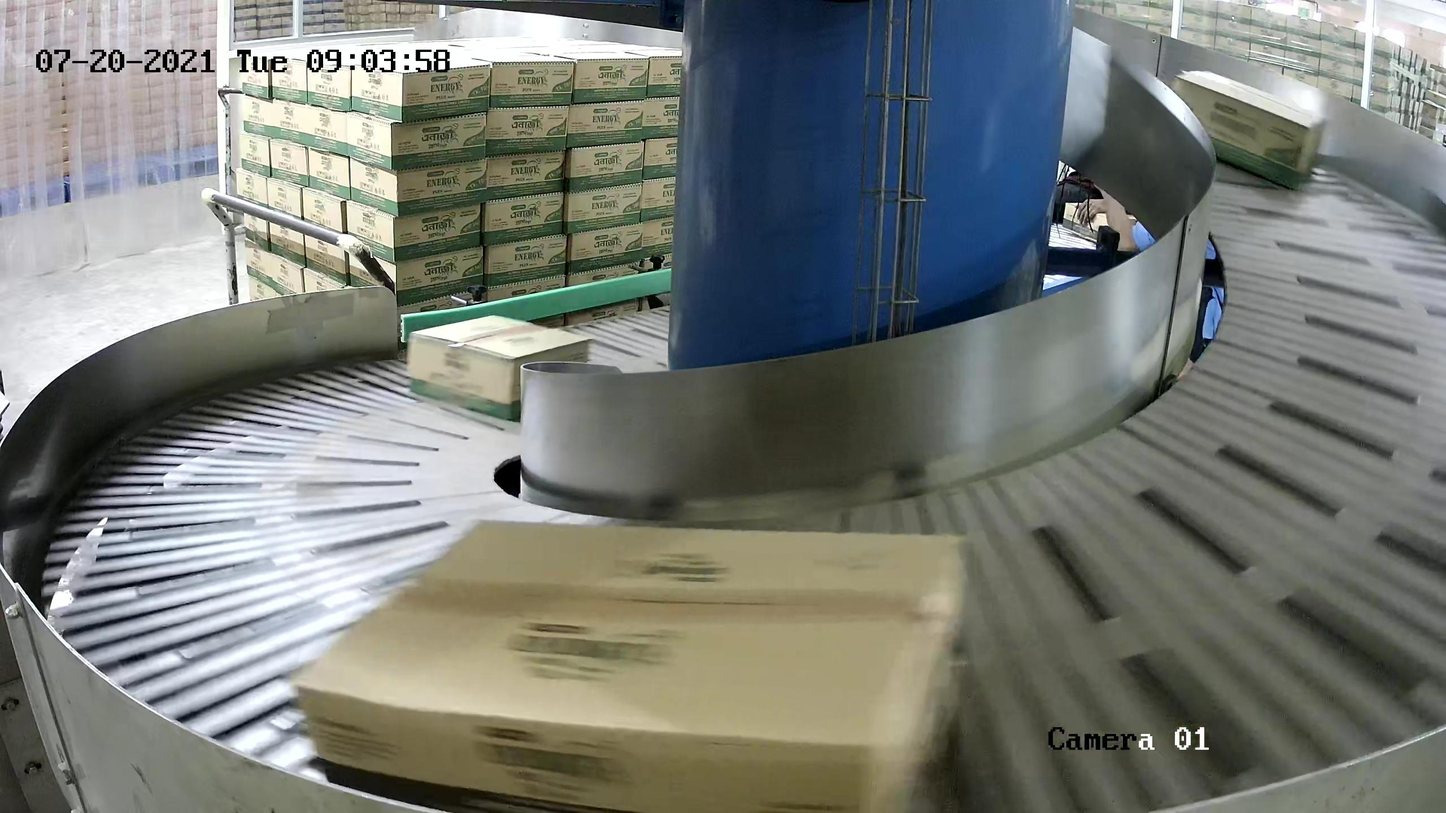Box: (291, 514, 973, 813), (405, 313, 595, 421), (1170, 70, 1326, 190)
